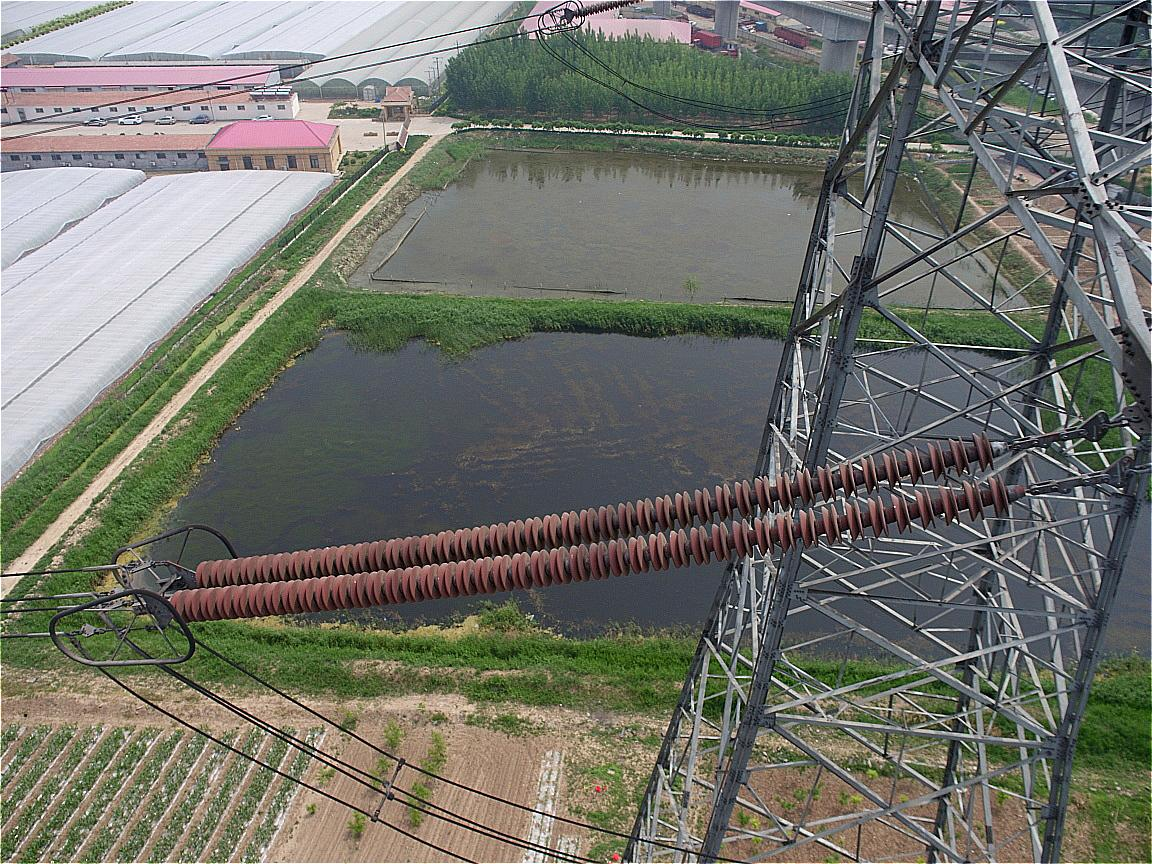insultor2: (149, 424, 1022, 654)
